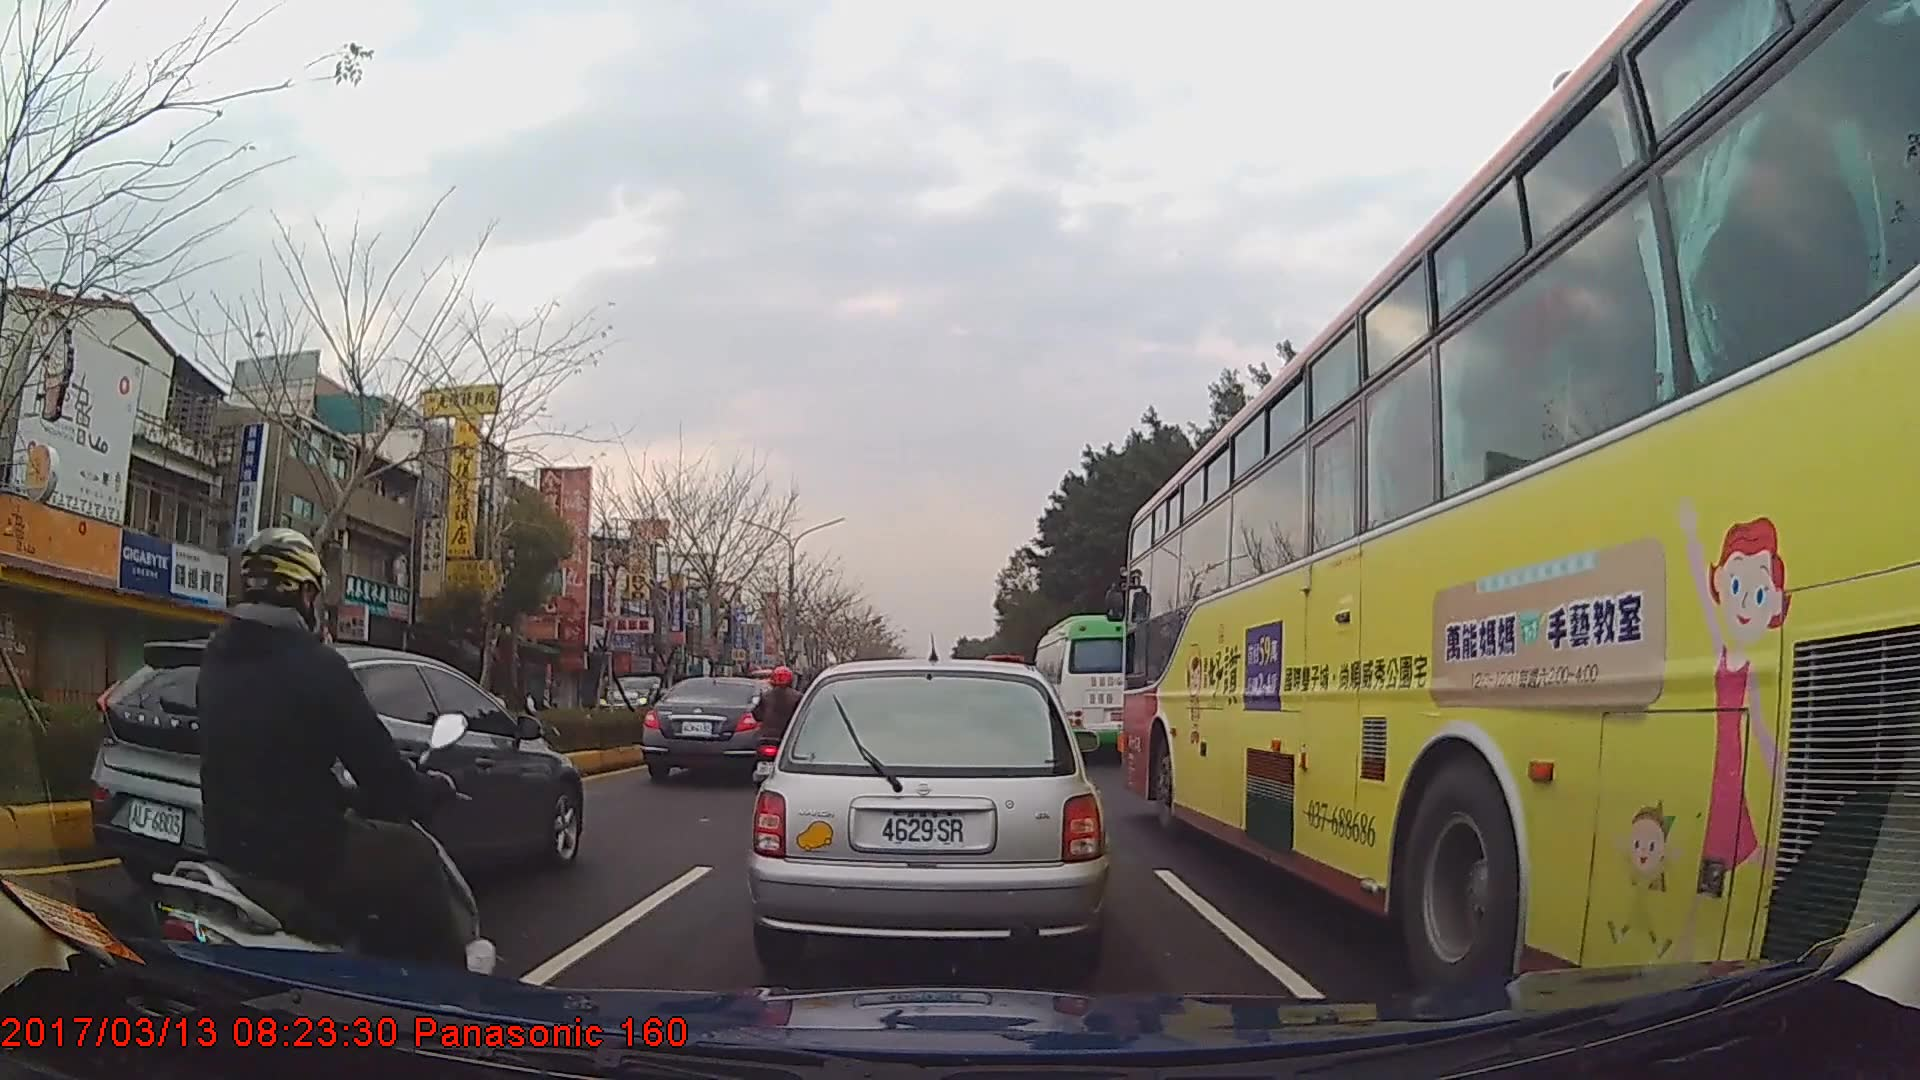rider: (178, 523, 489, 1012), (753, 666, 812, 798)
vehicle: (1120, 0, 1920, 1014), (82, 635, 581, 923), (750, 654, 1110, 972), (1029, 613, 1150, 763), (642, 673, 797, 785), (593, 673, 680, 728)
